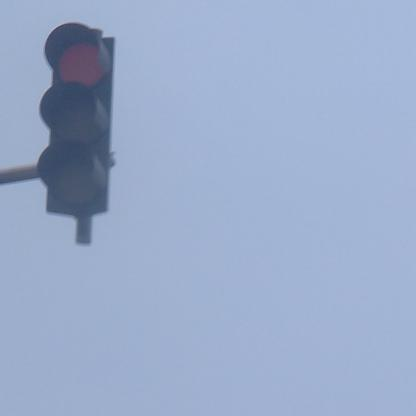red: (35, 23, 116, 220)
